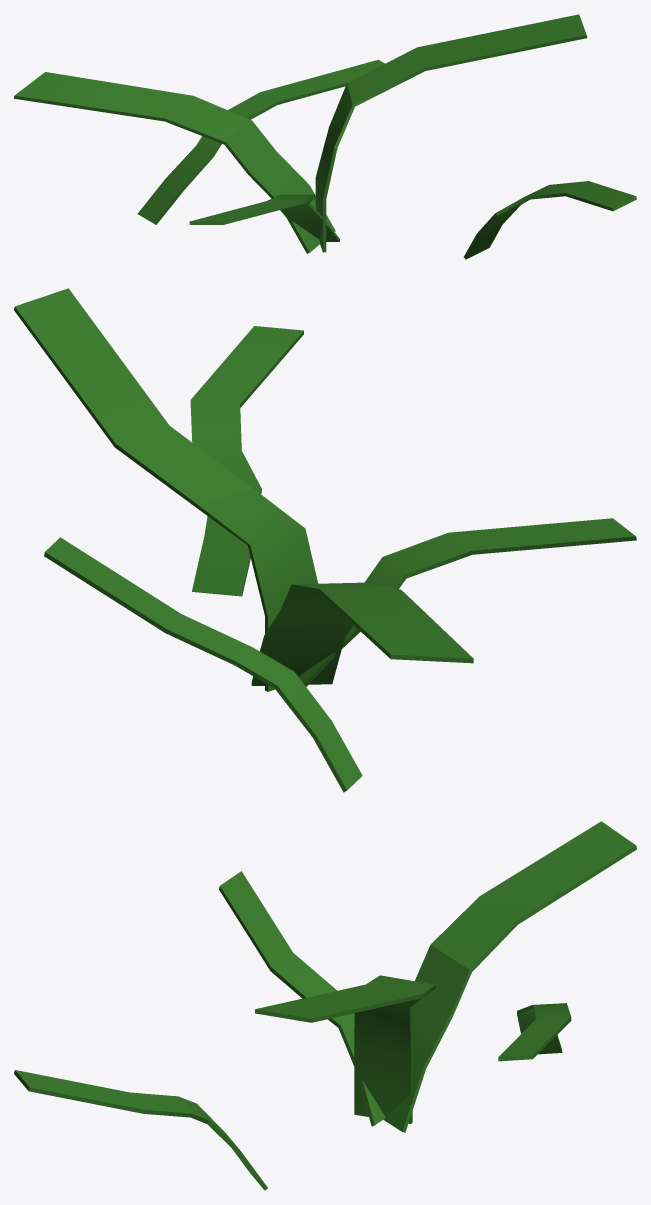
Rendered from Grass2.fbx.
The picture shows the model from 3 angles, top to bottom: view 1: azimuth 30°, elevation 25°; view 2: azimuth 150°, elevation 25°; view 3: azimuth 270°, elevation 25°; orthographic projection. The views are drawn at different scales.
Parts seen in each view (by area): view 1: Plane.002; view 2: Plane.002; view 3: Plane.002.
Boxes of the visible parts, x1,y1,x2,y2 form: Plane.002: (14, 14, 636, 259); Plane.002: (14, 288, 636, 792); Plane.002: (14, 821, 636, 1190).
Bounding box in the file's own units: 86.17 × 35.72 × 84.18.
